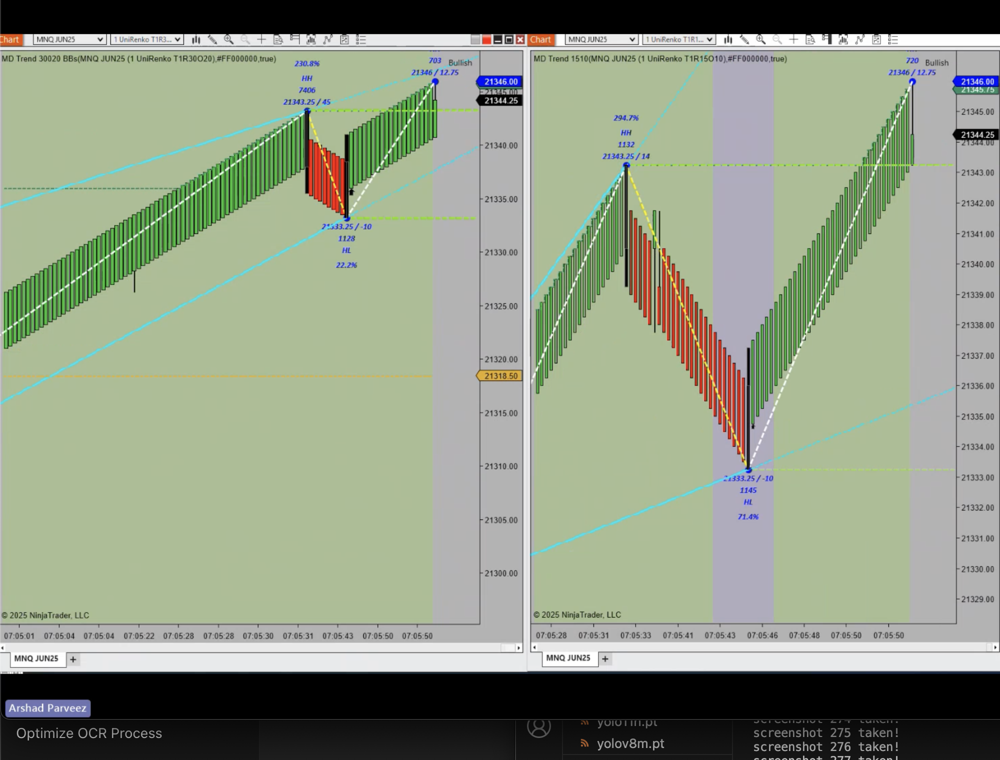HH: (296, 69, 322, 89), (617, 126, 641, 143)
HL: (336, 243, 361, 258), (736, 493, 757, 509)
